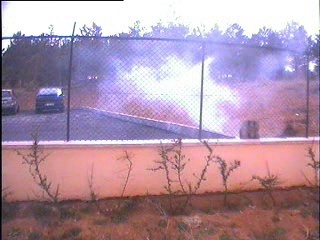smoke: (92, 30, 243, 135)
